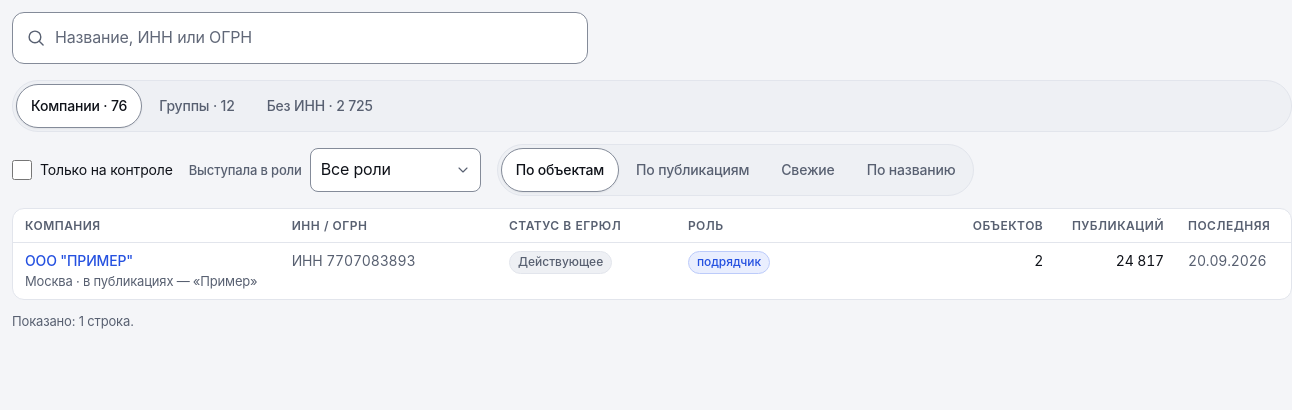
Test case: Главная «Компании» › фильтры каталога в адресе и переживают поиск по названию
Expected: the link "ООО \"ПРИМЕР\"" is shown, [25, 252, 133, 269]
Select "Заказчик" in the dropdown labelled "Выступала в роли" at (395,170), box [310, 148, 481, 192]
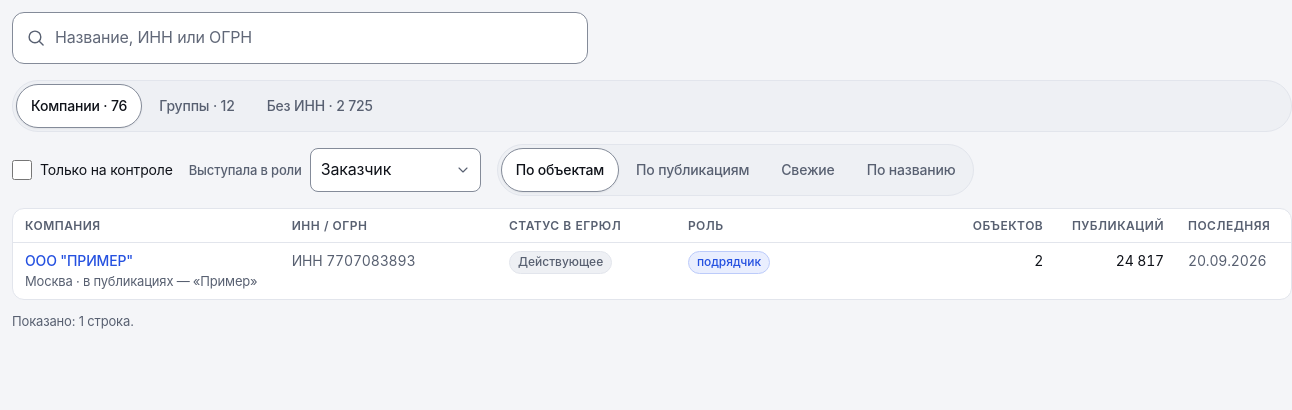
Click the checkbox labelled "Только на контроле" at (22,170), box [12, 160, 32, 180]
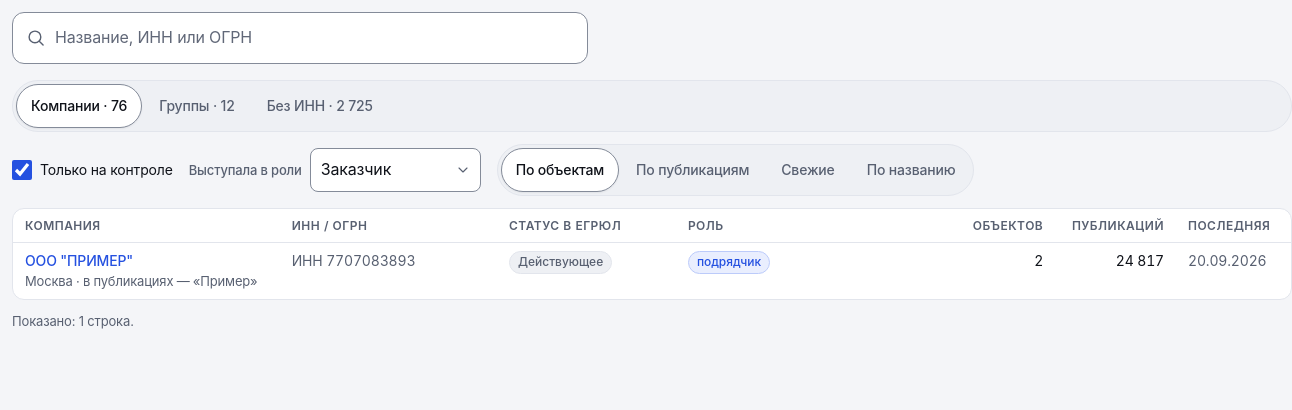
Type "мост" into the search field named "Поиск компании или объекта" at (300,38), box [12, 12, 588, 64]
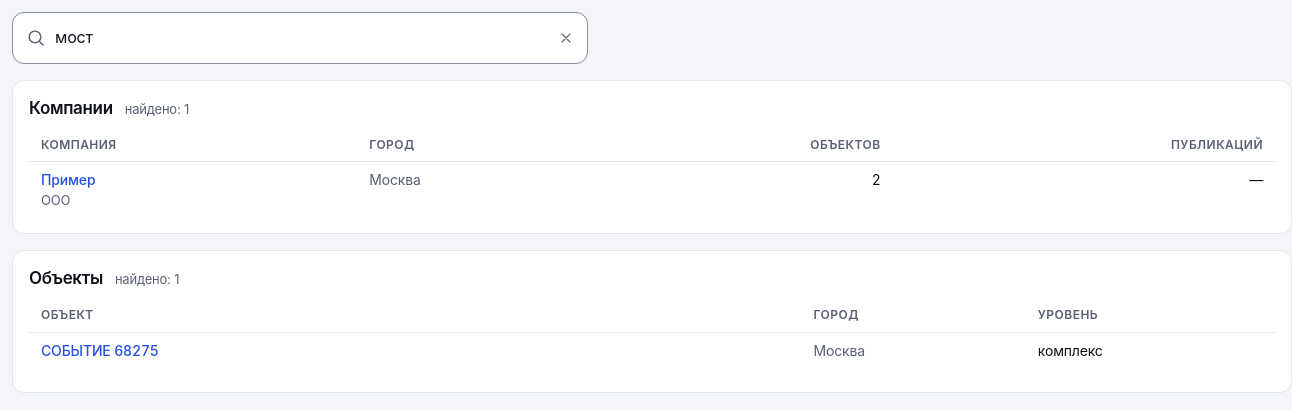
Result: the link "СОБЫТИЕ 68275" is shown at [41, 342, 159, 359]
Click the button named "Очистить поиск" at (566,38), box [544, 16, 588, 60]
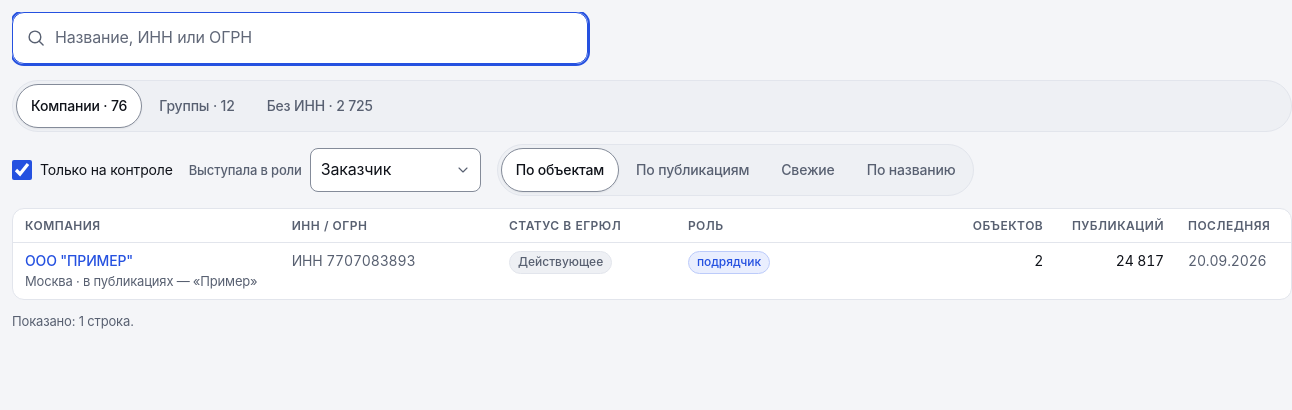
Result: the dropdown labelled "Выступала в роли" shows "Заказчик" at [310, 148, 481, 192]
